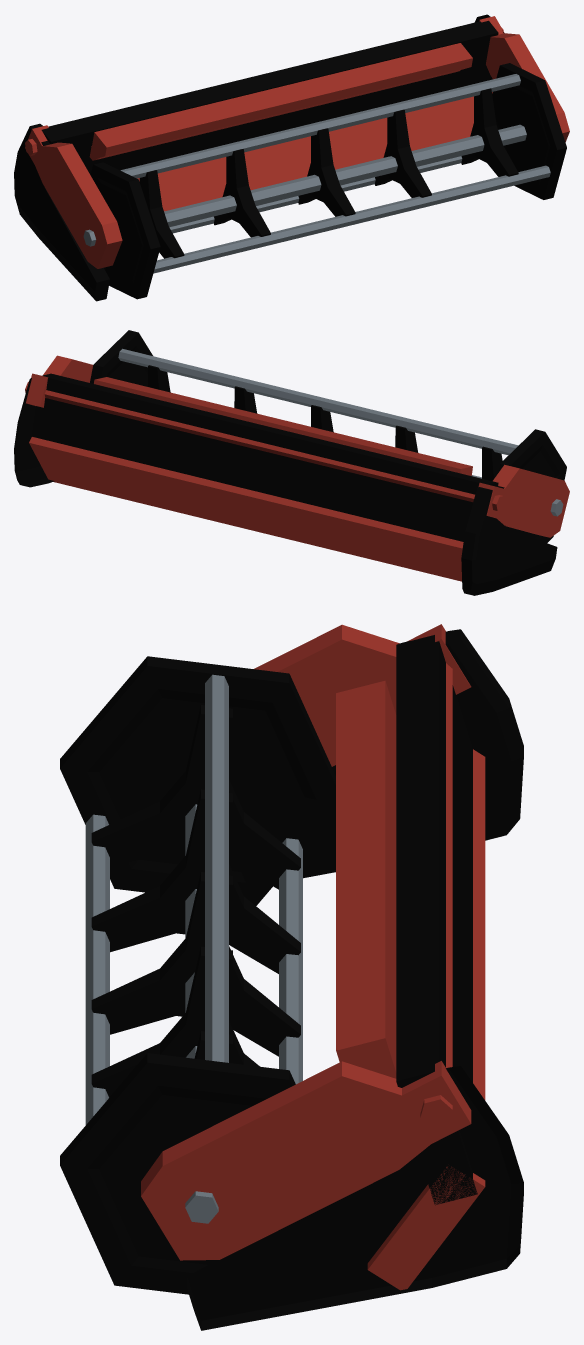
Rendered from Cultivator.fbx.
3 renders of one model, top to bottom at view 1: azimuth 30°, elevation 25°; view 2: azimuth 150°, elevation 25°; view 3: azimuth 270°, elevation 25°, orthographic. The views are drawn at different scales.
Parts seen in each view (by area): view 1: Cultivator, roration; view 2: Cultivator, roration; view 3: Cultivator, roration.
Part boxes in pixels (<box>): Cultivator: <box>14,14,569,301</box>; roration: <box>83,63,566,299</box>; Cultivator: <box>14,355,569,595</box>; roration: <box>90,330,566,542</box>; Cultivator: <box>141,624,523,1330</box>; roration: <box>60,656,335,1294</box>.
Size of the model in its own units: 4.1 by 1.08 by 1.75.
